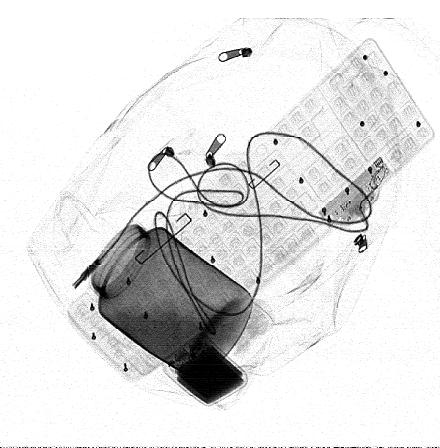Powerbank: (162, 330, 247, 408)
